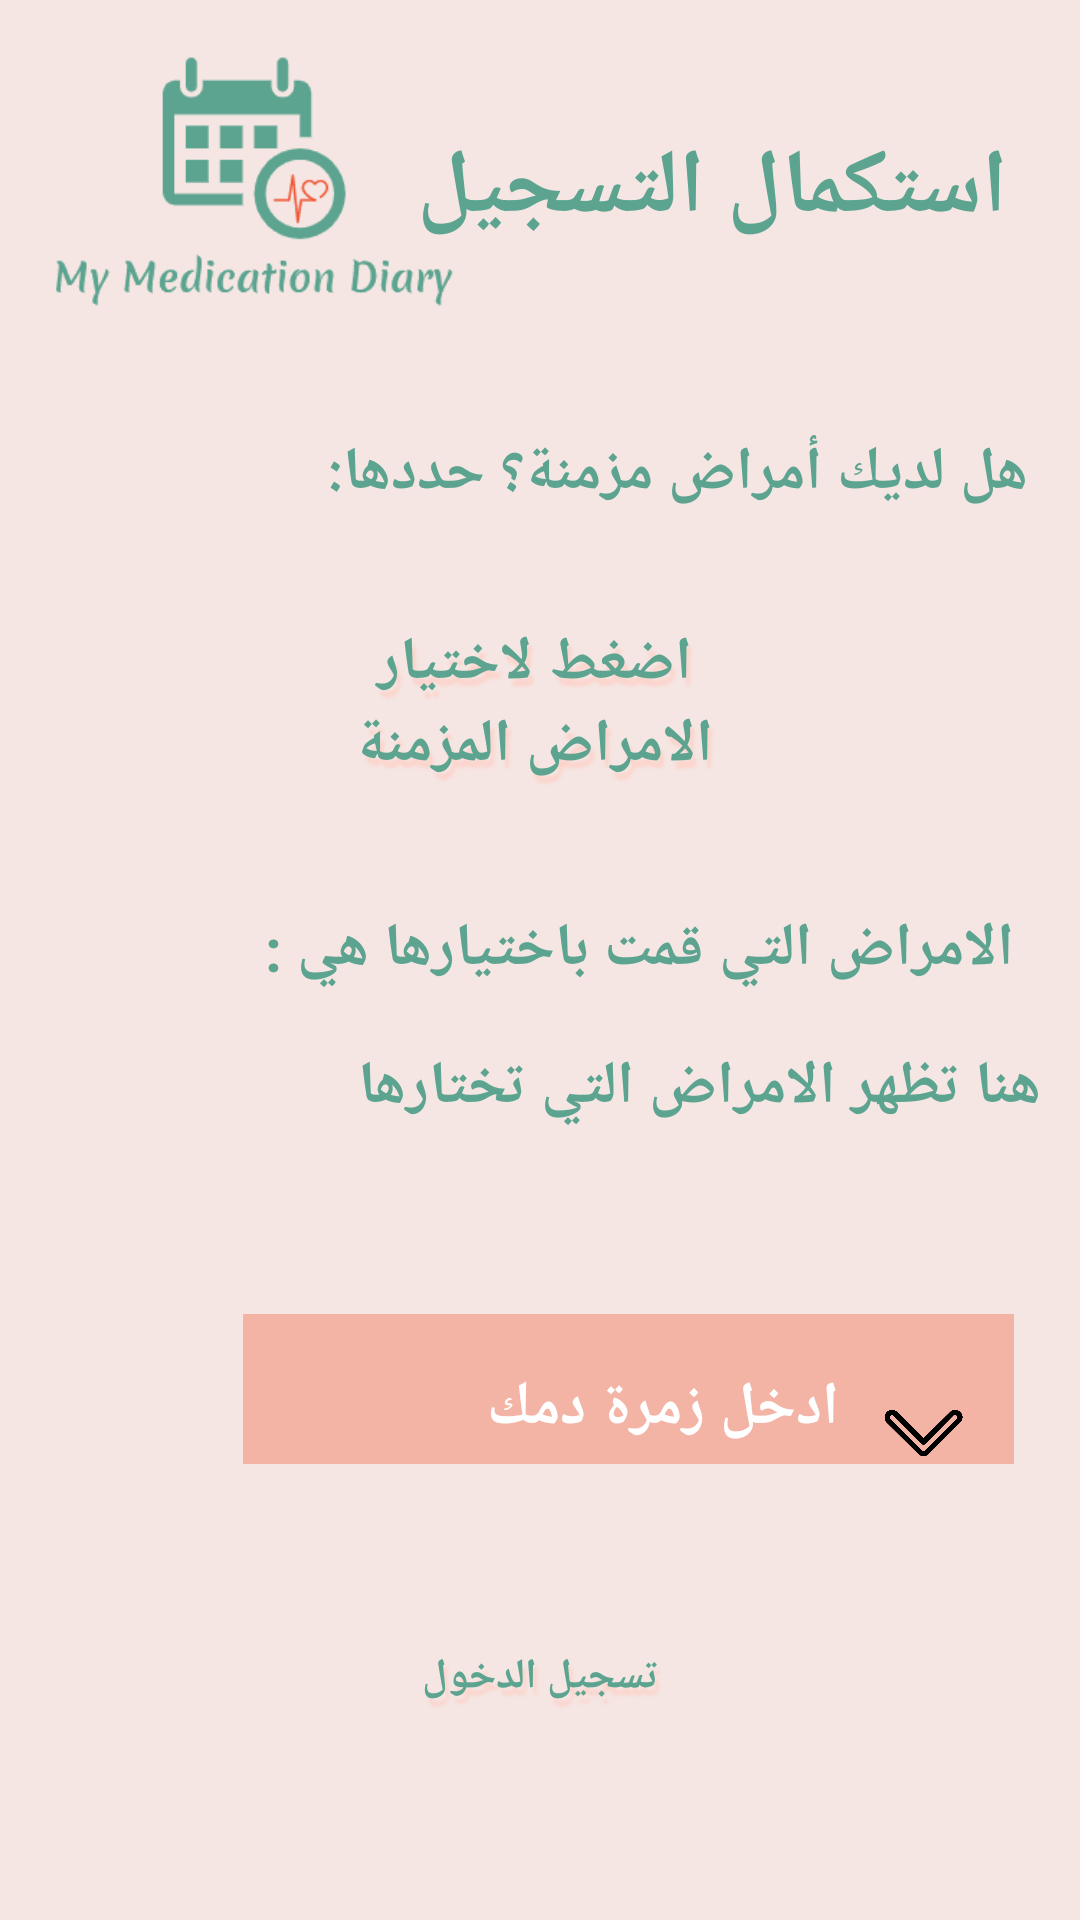

Named icons in this screenshot (1080*1920) and their centers, point (x, y):
down arrow: point (924, 1433)
